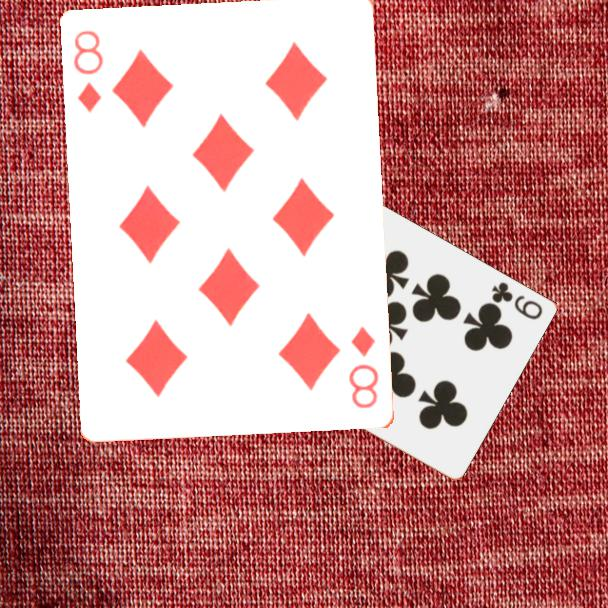c09: (487, 278, 545, 323)
d08: (346, 323, 382, 412), (71, 27, 107, 116)
